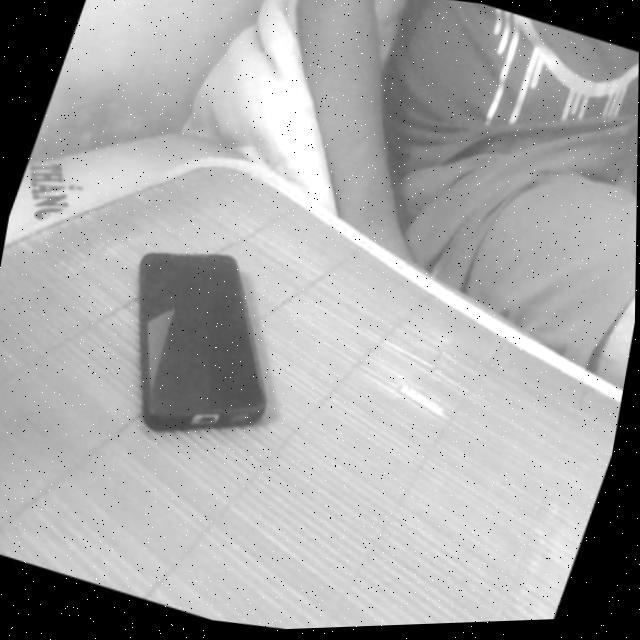phone: (55, 195, 343, 505)
